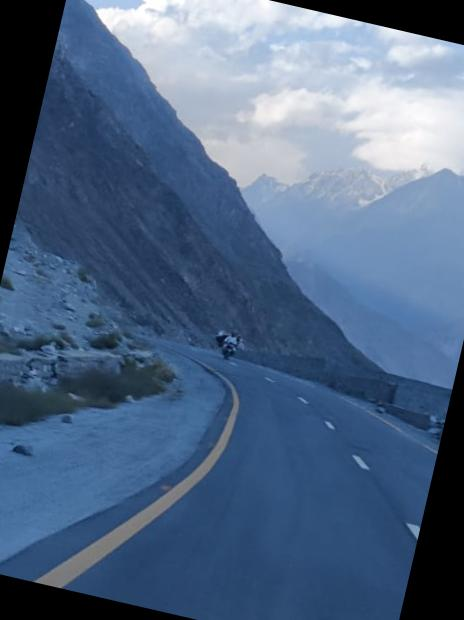left_turn: (103, 252, 347, 413)
